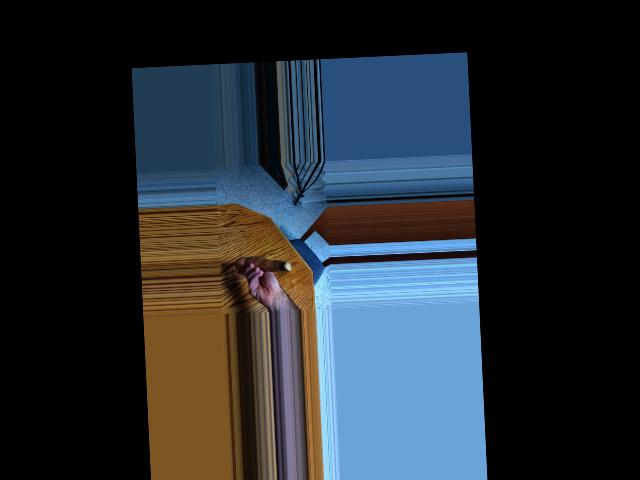sweet_potato: (234, 252, 290, 279)
